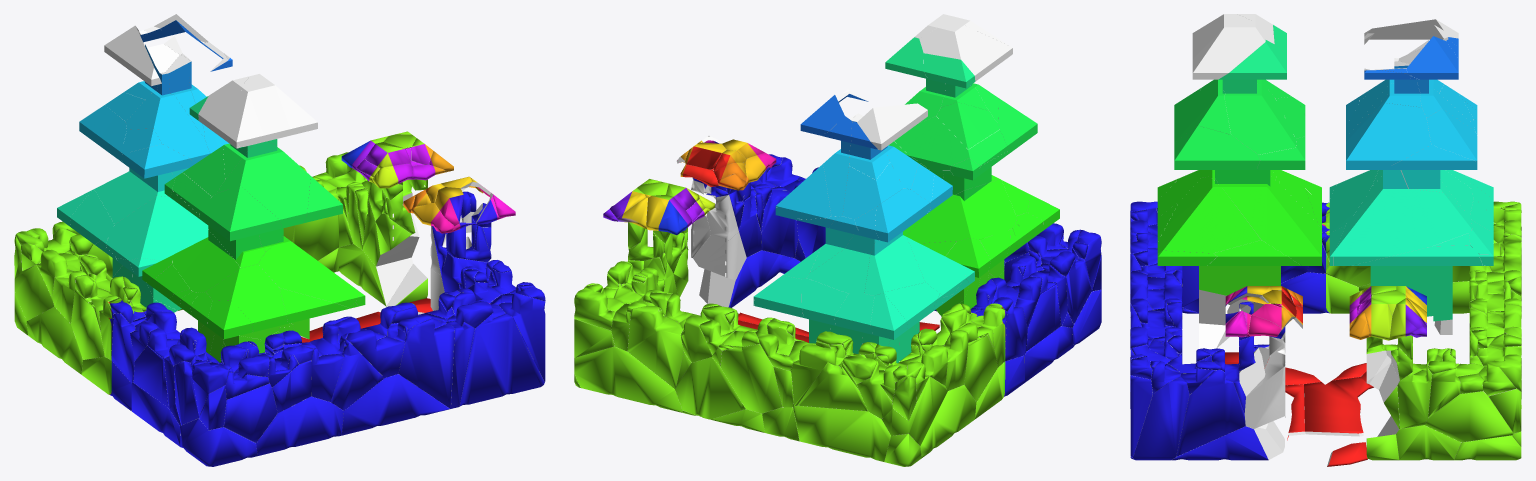
Rendered from Structure_Tower_Knight_Human_04_01_debris_cells_all.fbx.
3 renders of one model, left to right at view 1: azimuth 30°, elevation 25°; view 2: azimuth 150°, elevation 25°; view 3: azimuth 270°, elevation 25°, orthographic.
Parts seen in each view (by area): view 1: Structure_Tower_Knight_Human_04_01_cell.048, Structure_Tower_Knight_Human_04_01_cell.014, Structure_Tower_Knight_Human_04_01_cell.139, Structure_Tower_Knight_Human_04_01_cell.313, Structure_Tower_Knight_Human_04_01_cell.147, Structure_Tower_Knight_Human_04_01_cell.220, Structure_Tower_Knight_Human_04_01_cell.229, Structure_Tower_Knight_Human_04_01_cell.041, Structure_Tower_Knight_Human_04_01_cell.185, Structure_Tower_Knight_Human_04_01_cell.309, Structure_Tower_Knight_Human_04_01_cell.193, Structure_Tower_Knight_Human_04_01_cell.117 (+63 smaller); view 2: Structure_Tower_Knight_Human_04_01_cell.188, Structure_Tower_Knight_Human_04_01_cell.132, Structure_Tower_Knight_Human_04_01_cell.107, Structure_Tower_Knight_Human_04_01_cell.156, Structure_Tower_Knight_Human_04_01_cell.021, Structure_Tower_Knight_Human_04_01_cell.176, Structure_Tower_Knight_Human_04_01_cell.180, Structure_Tower_Knight_Human_04_01_cell.340, Structure_Tower_Knight_Human_04_01_cell.056, Structure_Tower_Knight_Human_04_01_cell.219, Structure_Tower_Knight_Human_04_01_cell.051, Structure_Tower_Knight_Human_04_01_cell.170 (+73 smaller); view 3: Structure_Tower_Knight_Human_04_01_cell.052, Structure_Tower_Knight_Human_04_01_cell.231, Structure_Tower_Knight_Human_04_01_cell.220, Structure_Tower_Knight_Human_04_01_cell.278, Structure_Tower_Knight_Human_04_01_cell.244, Structure_Tower_Knight_Human_04_01_cell.171, Structure_Tower_Knight_Human_04_01_cell.313, Structure_Tower_Knight_Human_04_01_cell.006, Structure_Tower_Knight_Human_04_01_cell.094, Structure_Tower_Knight_Human_04_01_cell.077, Structure_Tower_Knight_Human_04_01_cell.118, Structure_Tower_Knight_Human_04_01_cell.353 (+74 smaller).
Boxes of the visible parts, <box> form: Structure_Tower_Knight_Human_04_01_cell.048: <box>459,313,544,406</box>; Structure_Tower_Knight_Human_04_01_cell.014: <box>106,196,208,260</box>; Structure_Tower_Knight_Human_04_01_cell.139: <box>217,141,310,228</box>; Structure_Tower_Knight_Human_04_01_cell.313: <box>237,74,317,146</box>; Structure_Tower_Knight_Human_04_01_cell.147: <box>398,318,454,408</box>; Structure_Tower_Knight_Human_04_01_cell.220: <box>258,236,358,307</box>; Structure_Tower_Knight_Human_04_01_cell.229: <box>341,374,449,435</box>; Structure_Tower_Knight_Human_04_01_cell.041: <box>126,72,210,163</box>; Structure_Tower_Knight_Human_04_01_cell.185: <box>256,396,343,455</box>; Structure_Tower_Knight_Human_04_01_cell.309: <box>206,264,287,331</box>; Structure_Tower_Knight_Human_04_01_cell.193: <box>199,185,281,241</box>; Structure_Tower_Knight_Human_04_01_cell.117: <box>318,244,413,306</box>; Structure_Tower_Knight_Human_04_01_cell.188: <box>906,179,1016,243</box>; Structure_Tower_Knight_Human_04_01_cell.132: <box>574,346,682,412</box>; Structure_Tower_Knight_Human_04_01_cell.107: <box>793,405,890,461</box>; Structure_Tower_Knight_Human_04_01_cell.156: <box>894,116,1007,170</box>; Structure_Tower_Knight_Human_04_01_cell.021: <box>627,306,683,388</box>; Structure_Tower_Knight_Human_04_01_cell.176: <box>720,344,781,413</box>; Structure_Tower_Knight_Human_04_01_cell.180: <box>675,357,745,419</box>; Structure_Tower_Knight_Human_04_01_cell.340: <box>919,25,1012,81</box>; Structure_Tower_Knight_Human_04_01_cell.056: <box>699,250,800,307</box>; Structure_Tower_Knight_Human_04_01_cell.219: <box>864,232,925,295</box>; Structure_Tower_Knight_Human_04_01_cell.051: <box>806,234,875,293</box>; Structure_Tower_Knight_Human_04_01_cell.170: <box>842,162,903,219</box>; Structure_Tower_Knight_Human_04_01_cell.052: <box>1334,170,1471,265</box>; Structure_Tower_Knight_Human_04_01_cell.231: <box>1209,170,1321,265</box>; Structure_Tower_Knight_Human_04_01_cell.220: <box>1157,177,1260,253</box>; Structure_Tower_Knight_Human_04_01_cell.278: <box>1346,103,1431,169</box>; Structure_Tower_Knight_Human_04_01_cell.244: <box>1222,79,1296,154</box>; Structure_Tower_Knight_Human_04_01_cell.171: <box>1176,369,1245,456</box>; Structure_Tower_Knight_Human_04_01_cell.313: <box>1192,14,1265,79</box>; Structure_Tower_Knight_Human_04_01_cell.006: <box>1304,377,1369,436</box>; Structure_Tower_Knight_Human_04_01_cell.094: <box>1133,376,1189,460</box>; Structure_Tower_Knight_Human_04_01_cell.077: <box>1424,391,1513,442</box>; Structure_Tower_Knight_Human_04_01_cell.118: <box>1174,125,1259,169</box>; Structure_Tower_Knight_Human_04_01_cell.353: <box>1370,266,1452,321</box>.
Size of the model in its own units: 959 by 832 by 912.
